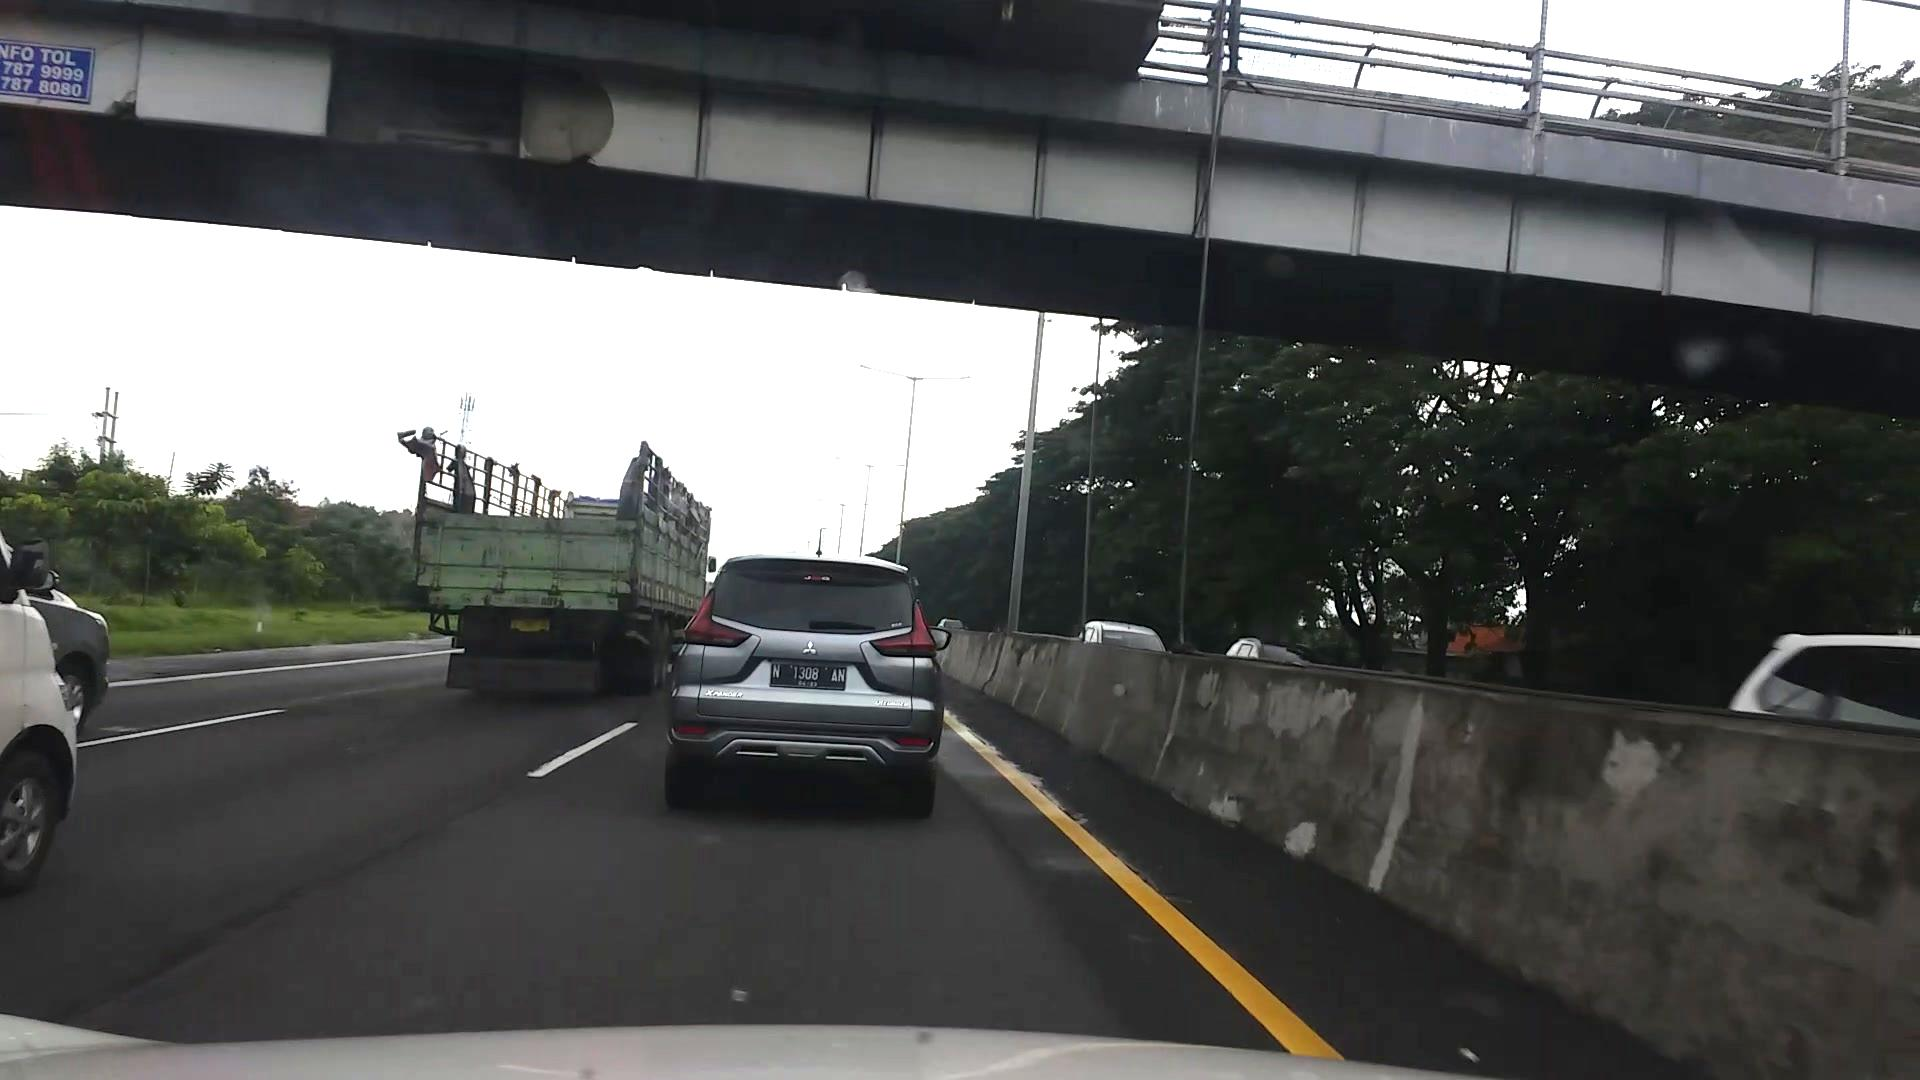plate_positive: (770, 659, 847, 691)
